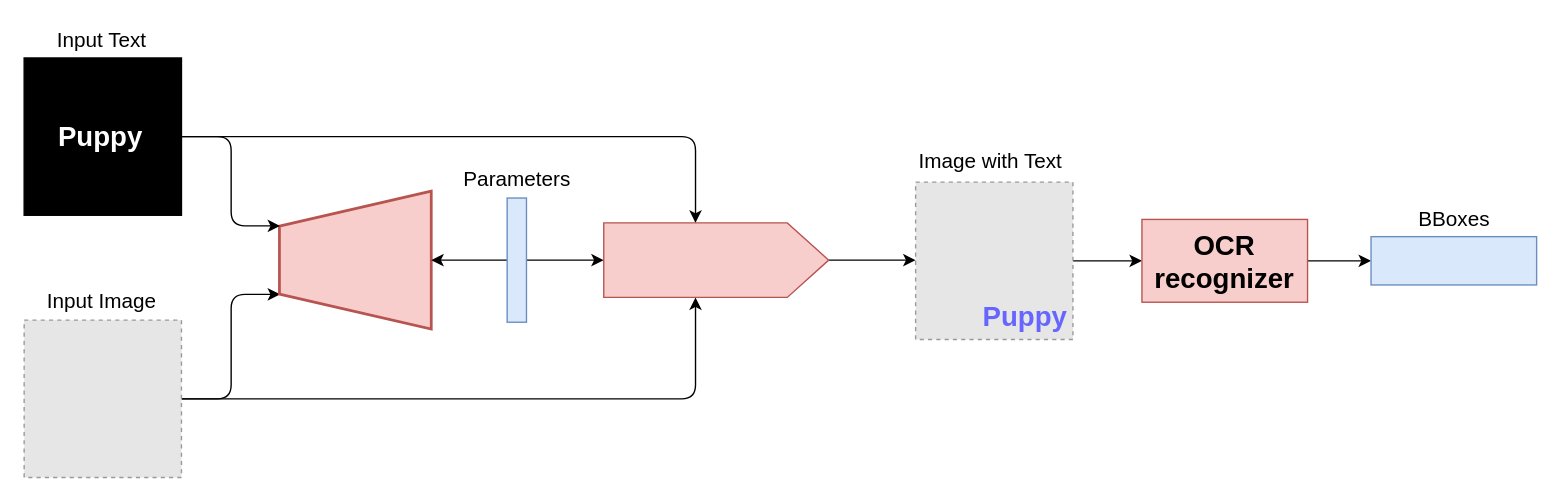
This 1561x502 diagram has some shape labels left out. Grey dashed boxes stand in for pictures. The shapes that lost their labels are listed below. From the top down, each one's centre as x and y in pixels, then its label:
the point at 354,259: Generator
the point at 715,259: Staker
